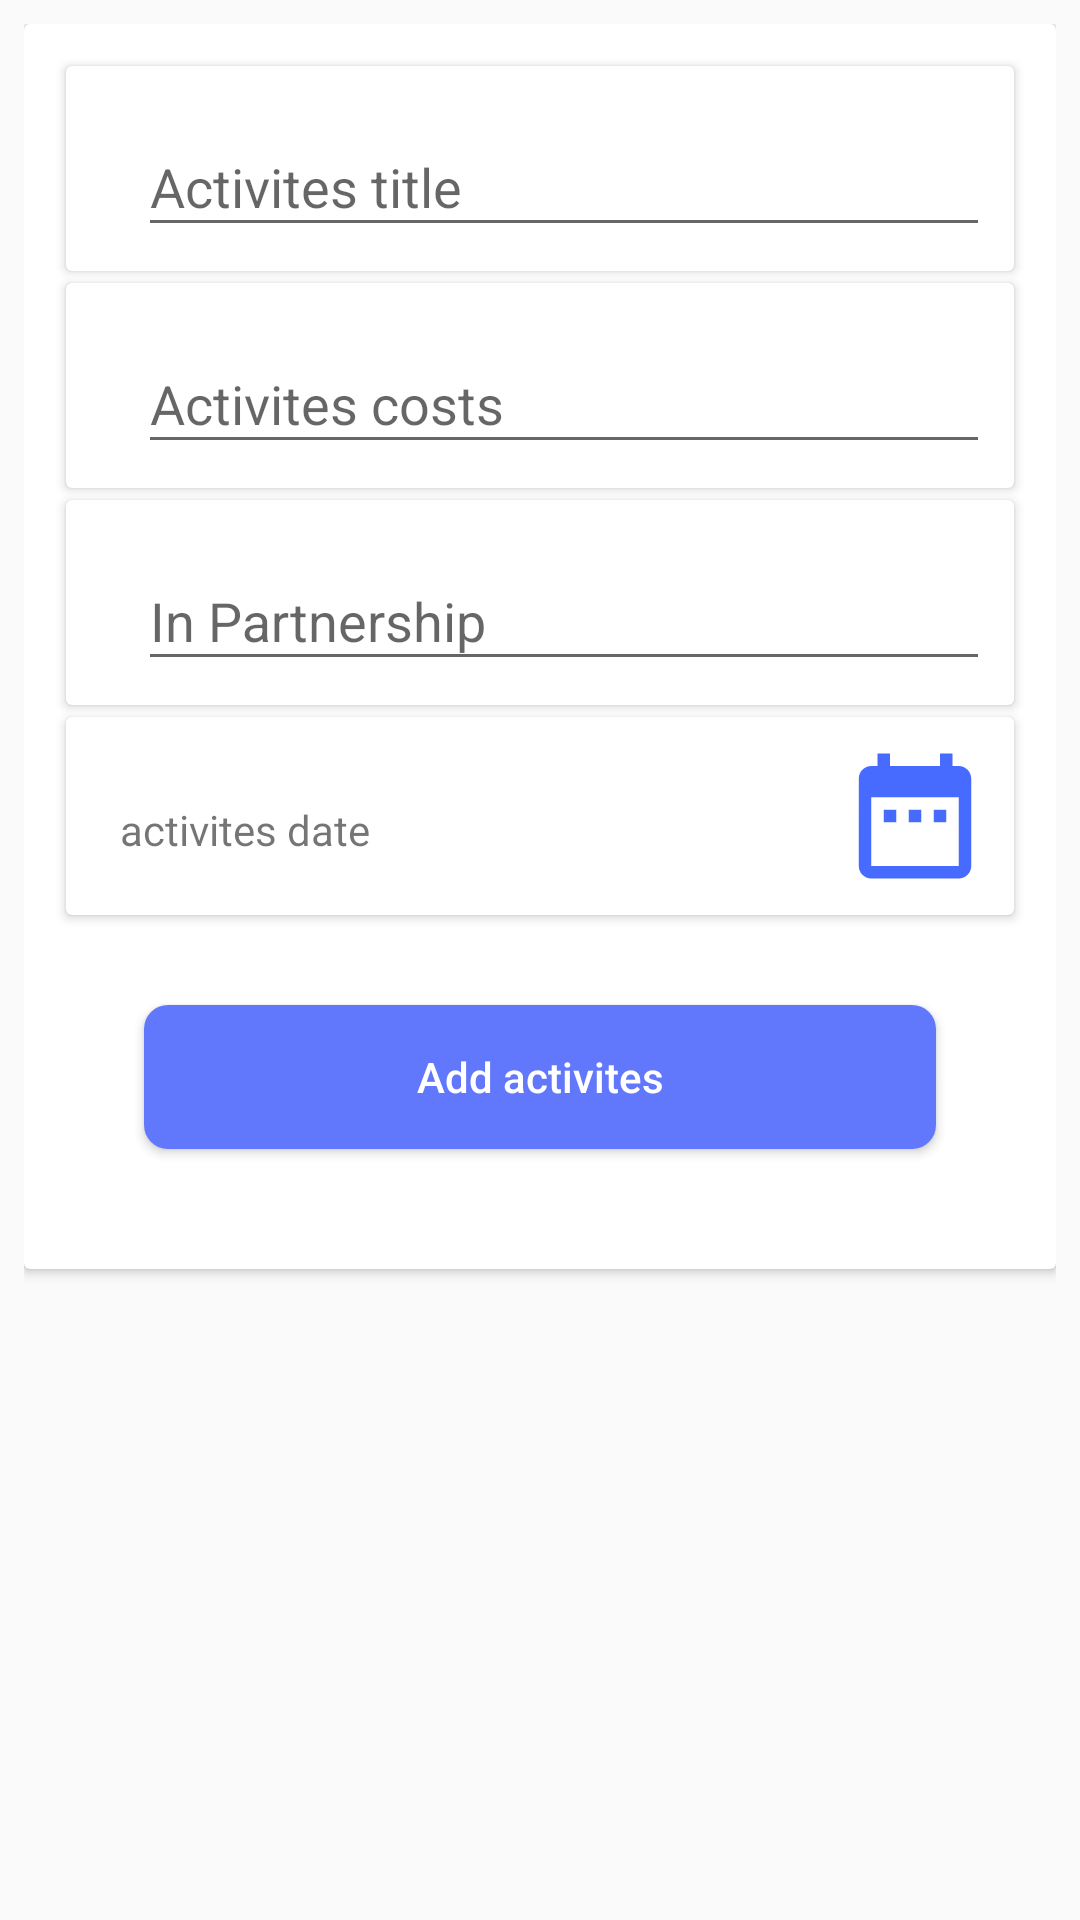

Screen size 1080px×1920px. Icon name, then its box in pixels as (x1, y1, x2, y2):
date range: (858, 753, 972, 879)
